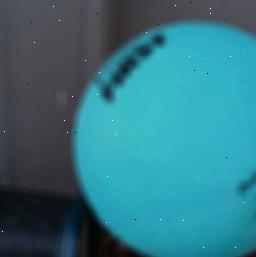algae: (68, 15, 256, 257)
